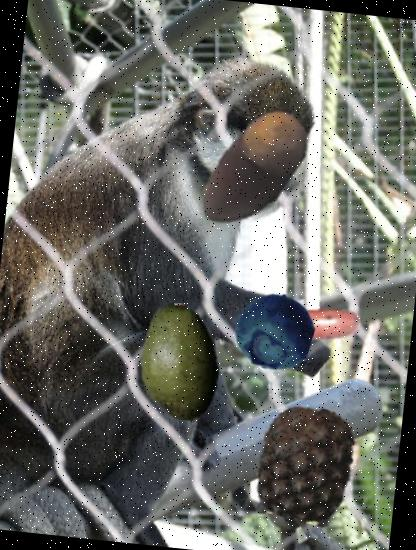Avocado: (115, 298, 246, 429)
Banana: (256, 268, 366, 377)
Hazelnut: (178, 94, 331, 248)
Huckleberry: (232, 289, 316, 374)
Pineapple: (244, 401, 370, 527)
